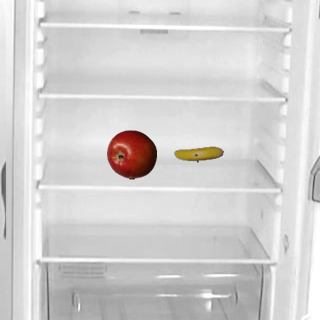Apple Braeburn: (106, 129, 156, 179)
Banana: (173, 129, 223, 179)
